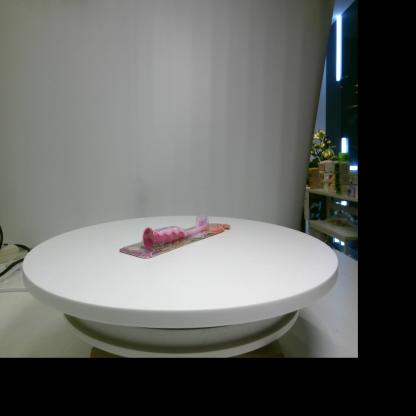Personal Hygiene: (120, 211, 230, 259)
